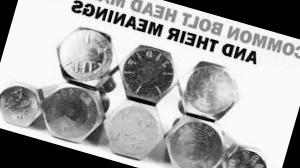screw: (32, 76, 111, 148), (171, 56, 248, 128), (111, 40, 187, 110), (50, 22, 126, 92), (96, 94, 170, 164), (157, 110, 232, 168), (0, 78, 49, 131), (216, 141, 273, 168)
